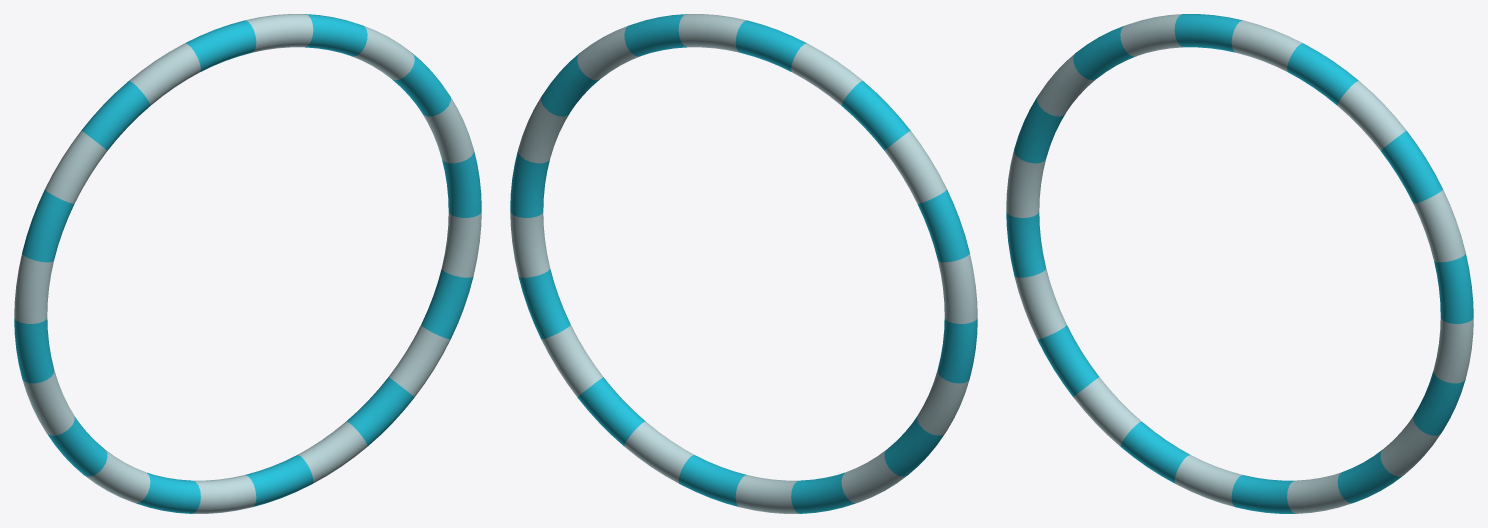
The model's file is race-gate-cyan.obj.
3 renders of one model, left to right at view 1: azimuth 30°, elevation 25°; view 2: azimuth 150°, elevation 25°; view 3: azimuth 330°, elevation 25°, orthographic.
Parts seen in each view (by area): view 1: gate; view 2: gate; view 3: gate.
Part boxes in pixels (x1=…): gate: x1=14, y1=14, x2=481, y2=513; gate: x1=510, y1=14, x2=977, y2=513; gate: x1=1006, y1=14, x2=1473, y2=513.
Bounding box in the file's own units: 640 × 640 × 40.
